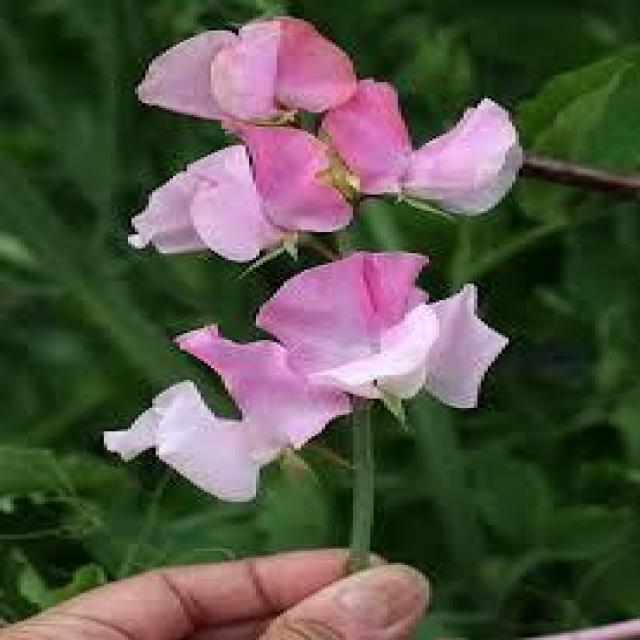organic waste: (140, 26, 521, 241), (150, 254, 520, 446)
